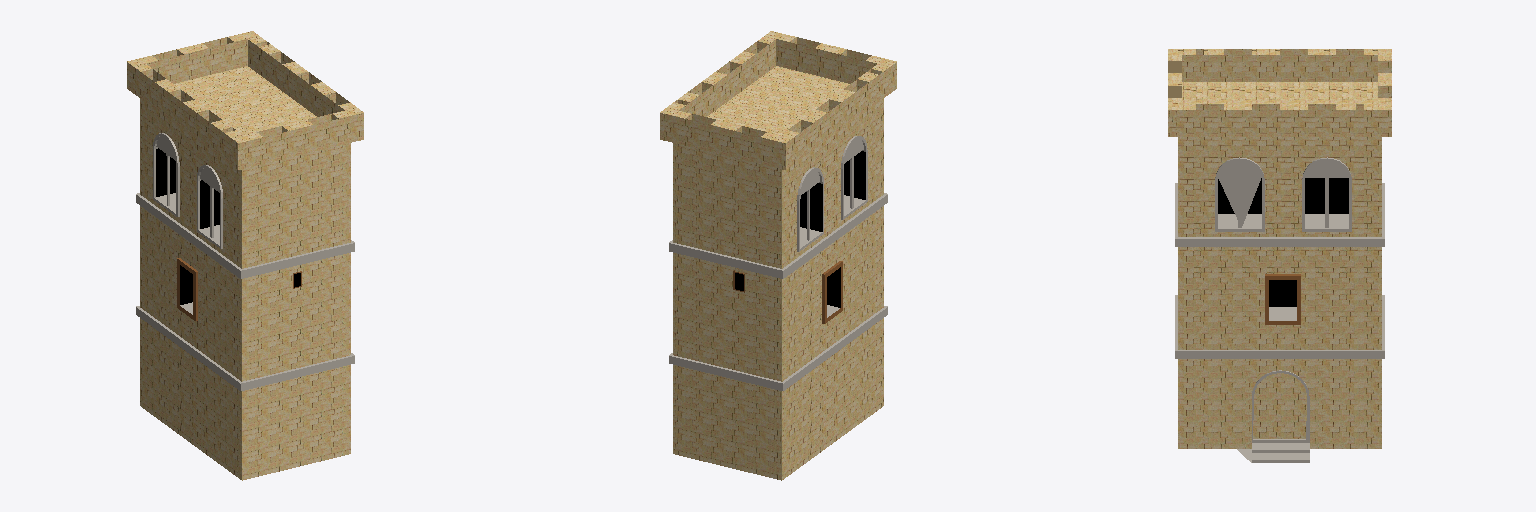
The picture shows the model from 3 angles: view 1: azimuth 30°, elevation 25°; view 2: azimuth 150°, elevation 25°; view 3: azimuth 270°, elevation 25°; orthographic projection.
Visible parts, largest first — view 1: Mesh1 Model; view 2: Mesh1 Model; view 3: Mesh1 Model.
Part boxes in pixels (bbox=[...]): Mesh1 Model: bbox=[127, 31, 363, 480]; Mesh1 Model: bbox=[660, 31, 896, 480]; Mesh1 Model: bbox=[1168, 49, 1391, 462].
Bounding box in the file's own units: 1051 × 2345 × 1384.
Materials: 8 (1 with a texture image).